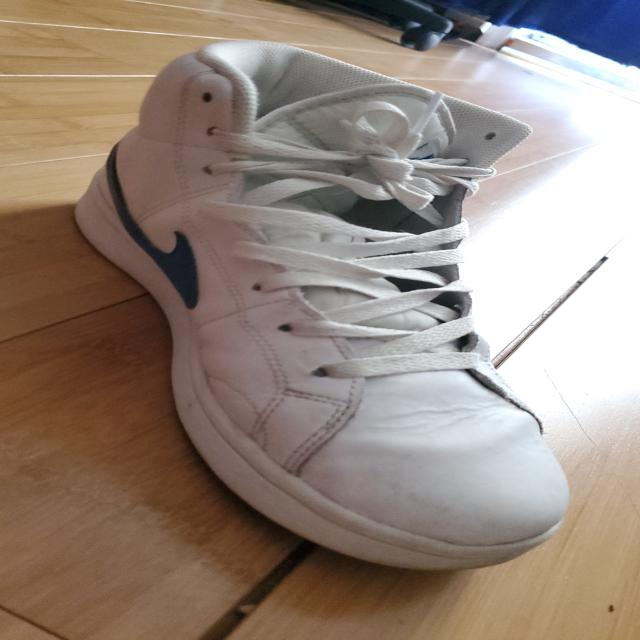shoes: (73, 39, 573, 571)
